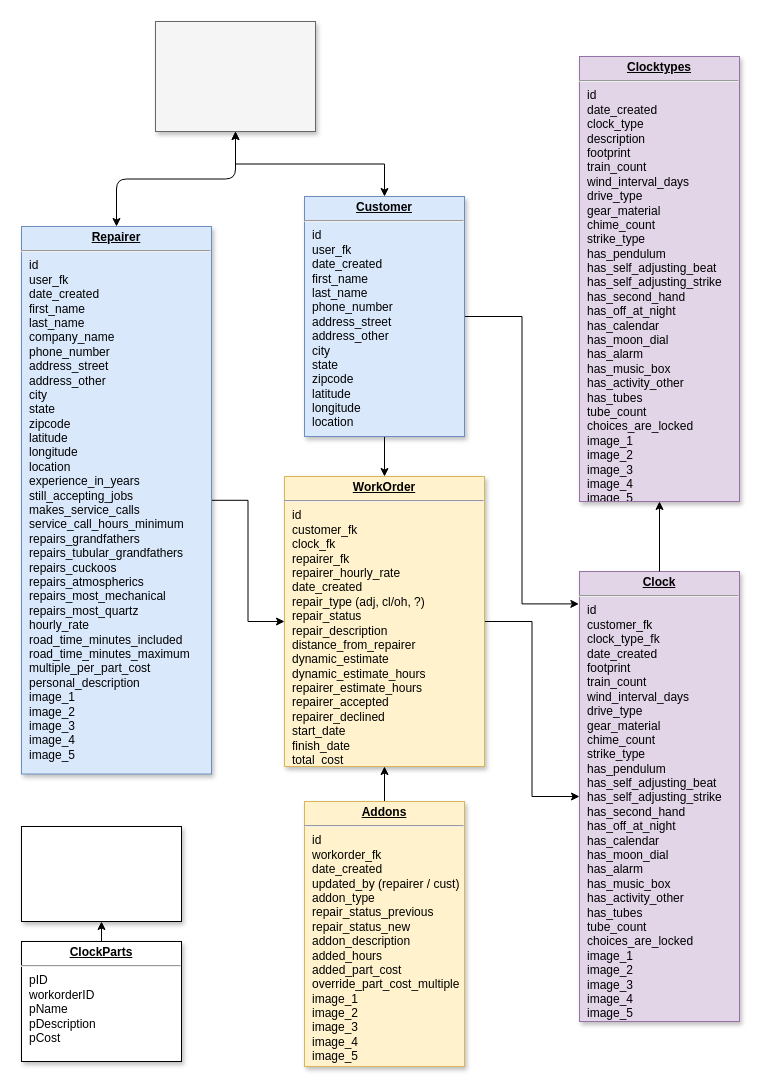
Image size: 763x1091. Some labels were removed from this diagram. Here are the shapes that lost their labels. From the top down, the centre of each, then its label:
At point (236, 77): "CustomUser uuid username email password".
At point (102, 875): "PartNeeded workorderID cpID neededQuantity".
